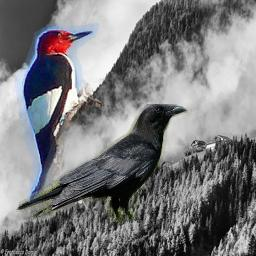Crow: (16, 104, 188, 224)
Woodpecker: (7, 17, 103, 203)
